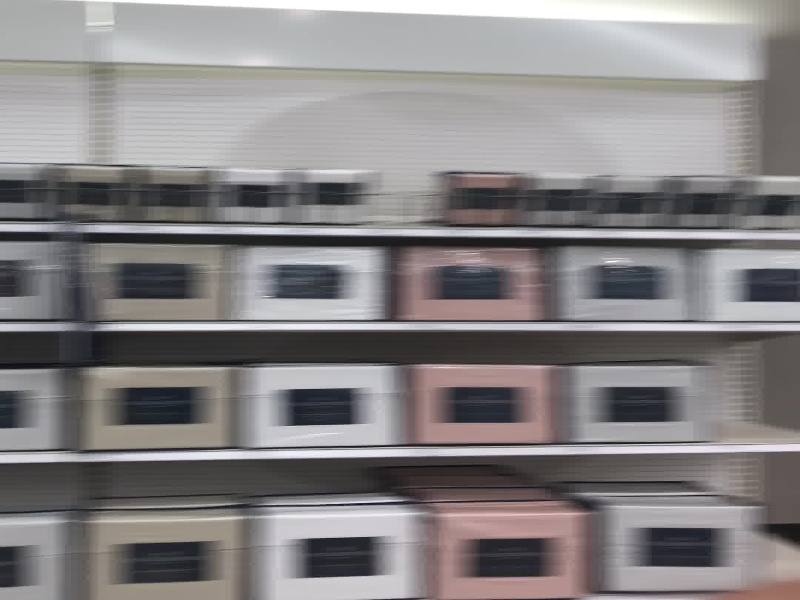void: (375, 73, 442, 221), (719, 332, 800, 448)
